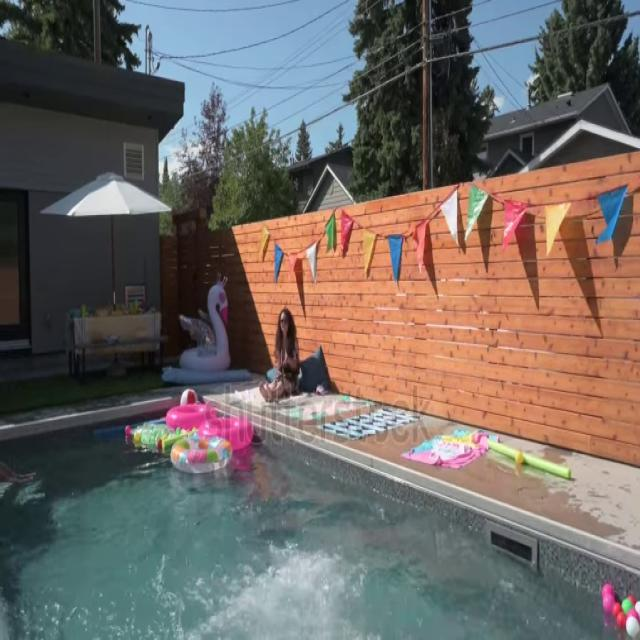adult: (260, 308, 298, 404)
